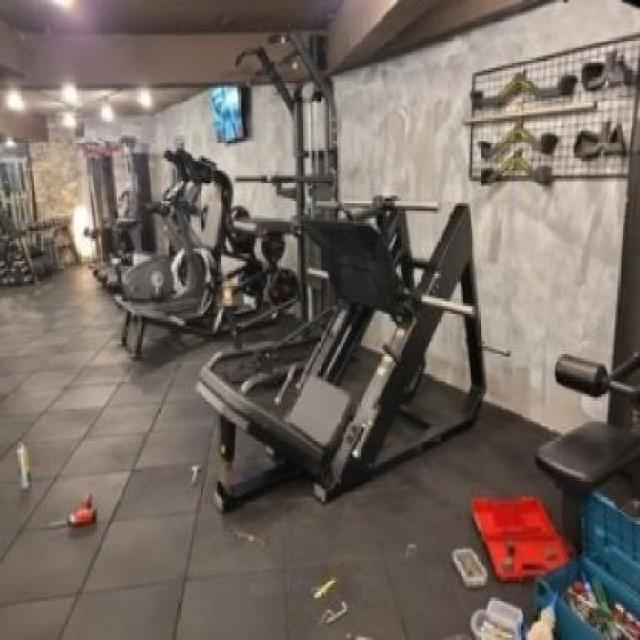leg press: (183, 138, 519, 557)
